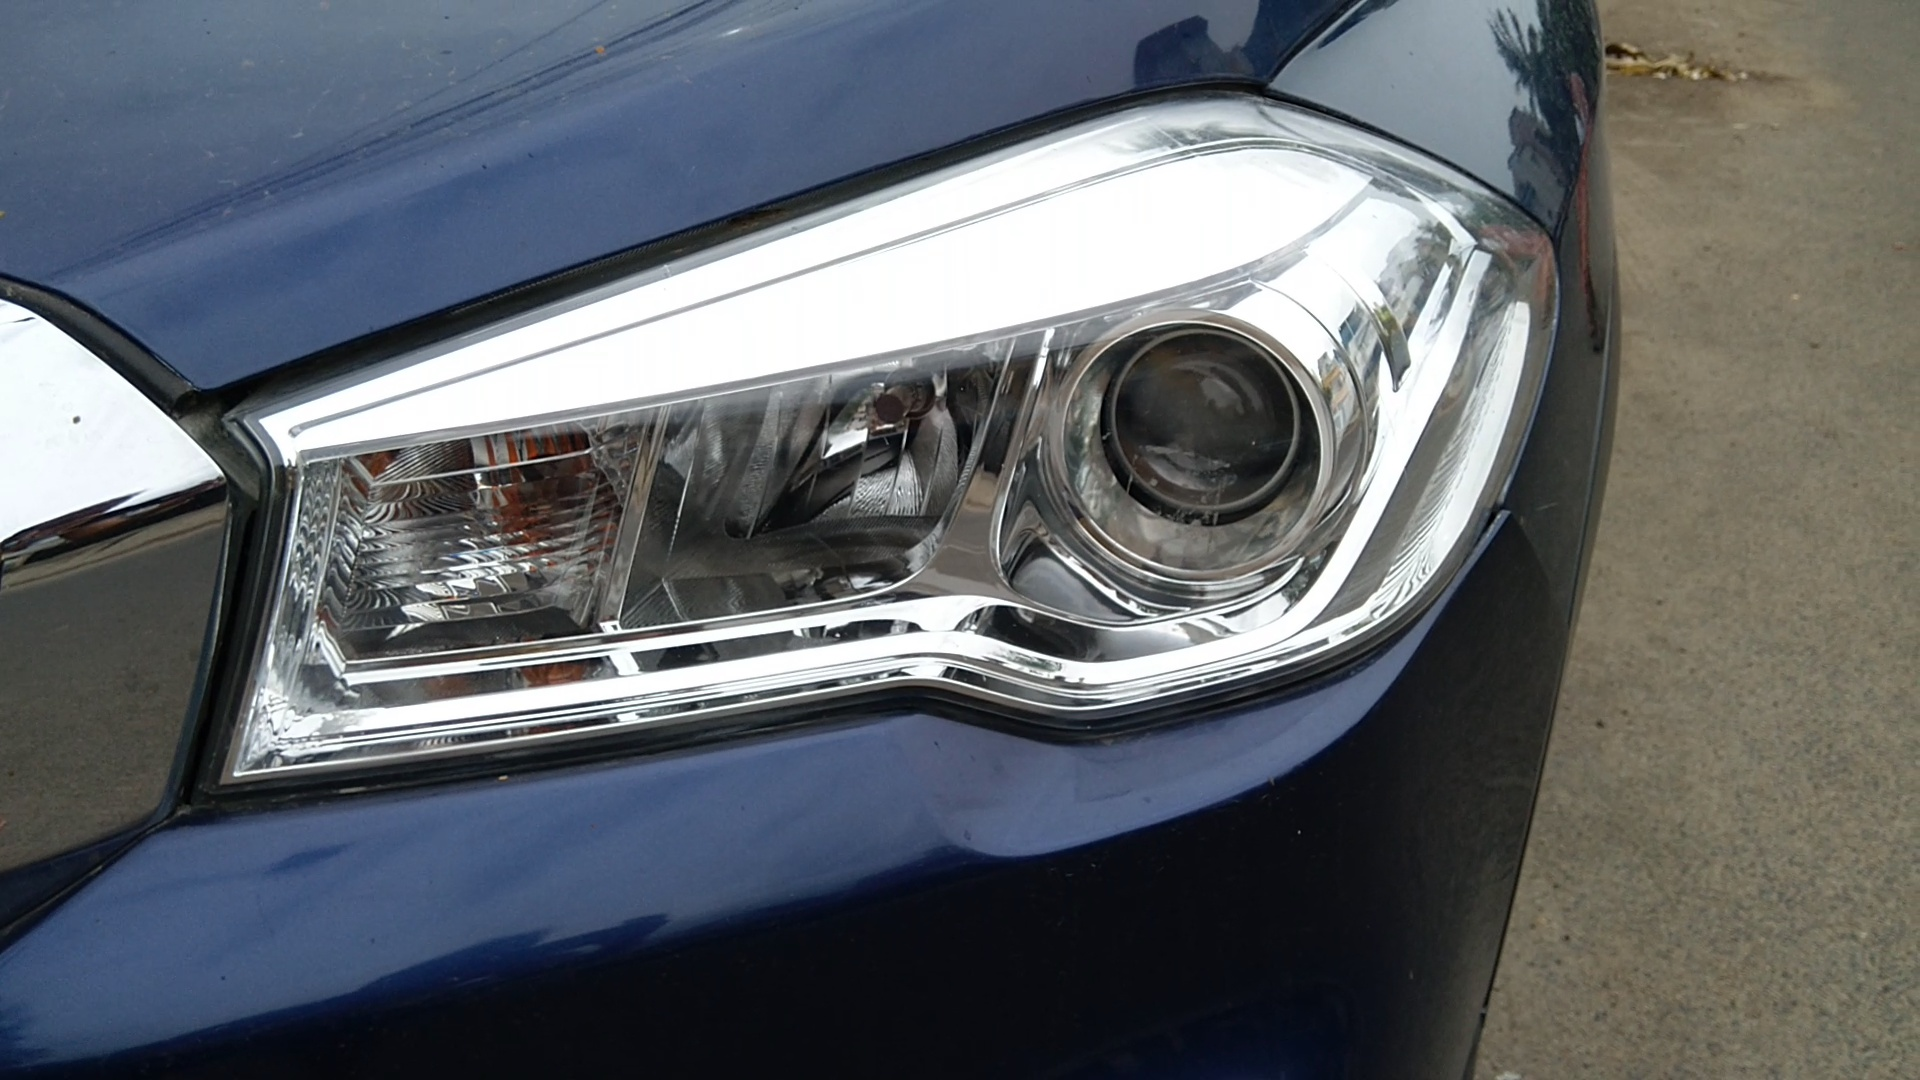headlamp: (174, 55, 1581, 891)
